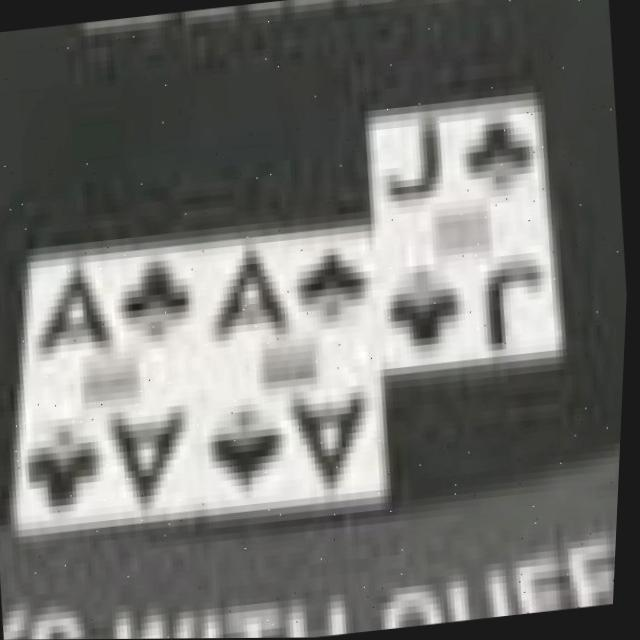Card-A: (206, 229, 391, 514), (21, 245, 205, 531)
Card-J: (370, 103, 560, 366)
